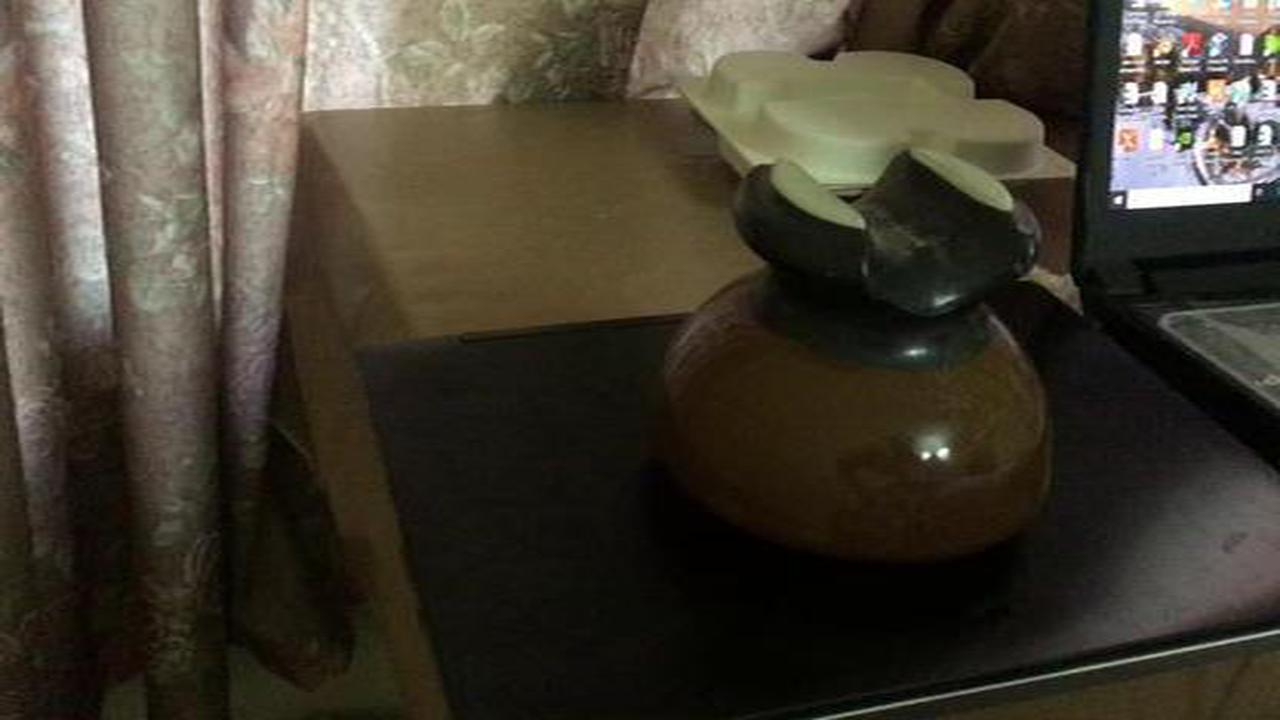insulator_pin: (634, 130, 1084, 577)
